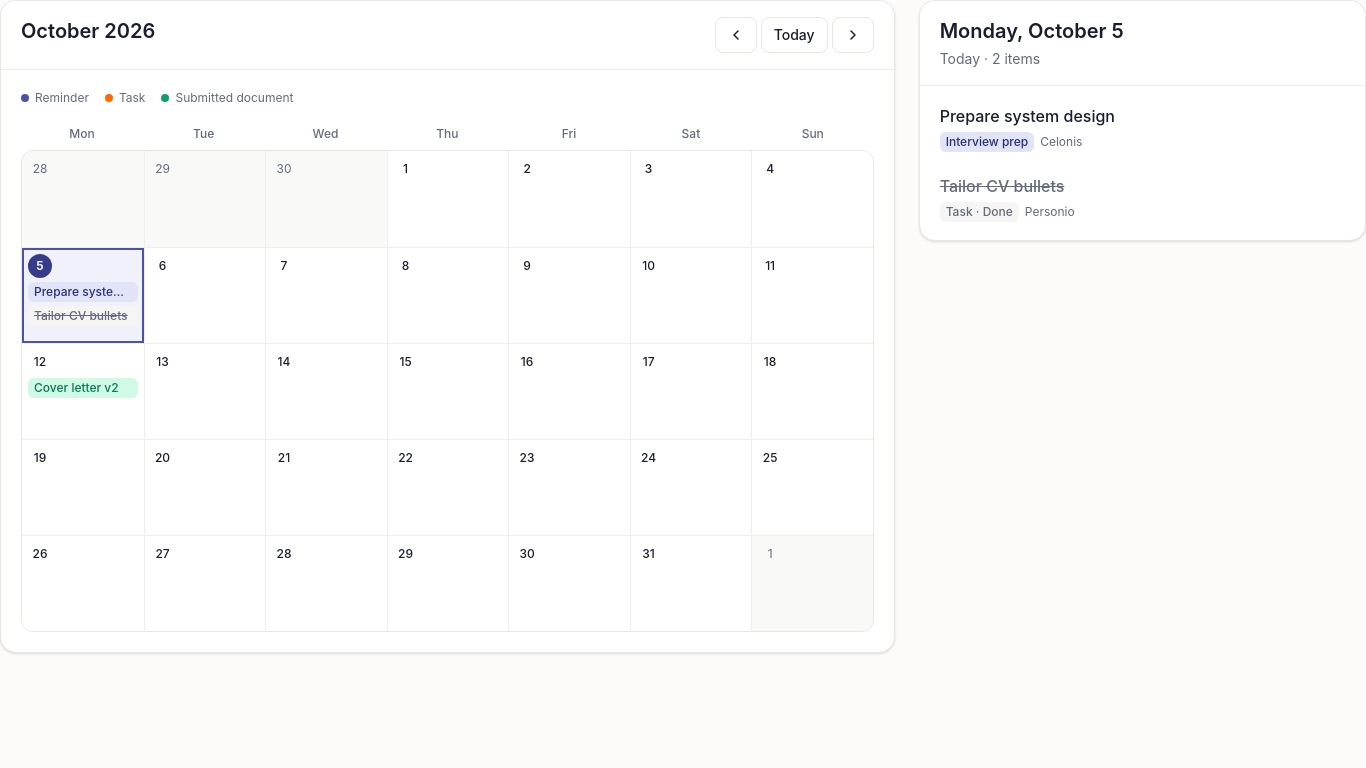
CalendarPage › drops a chosen day when the month changes
Step 1. Click the button with aria-label "Monday, October 12, 1 item" → (83, 391), box [22,343,144,439]
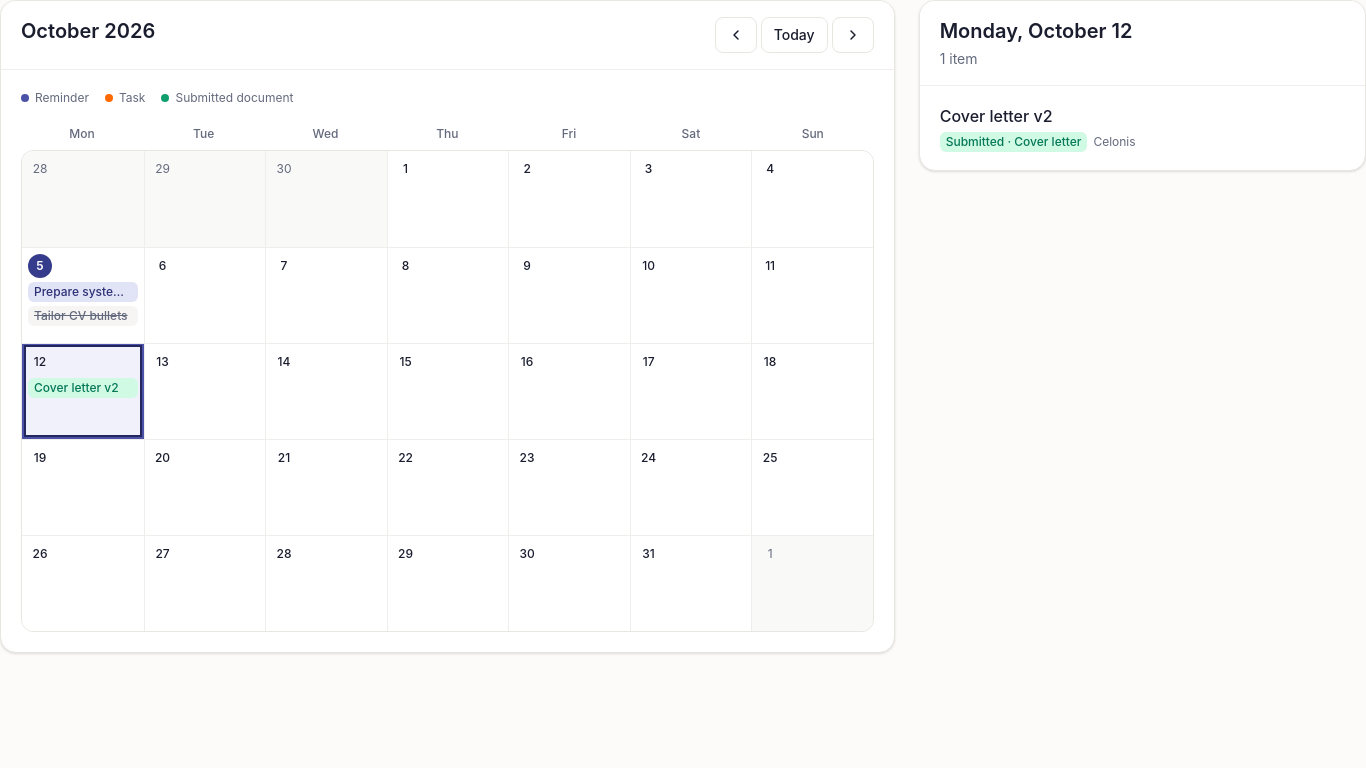
Step 2. Click the button named "Next month" → (853, 35), box [832,17,874,53]
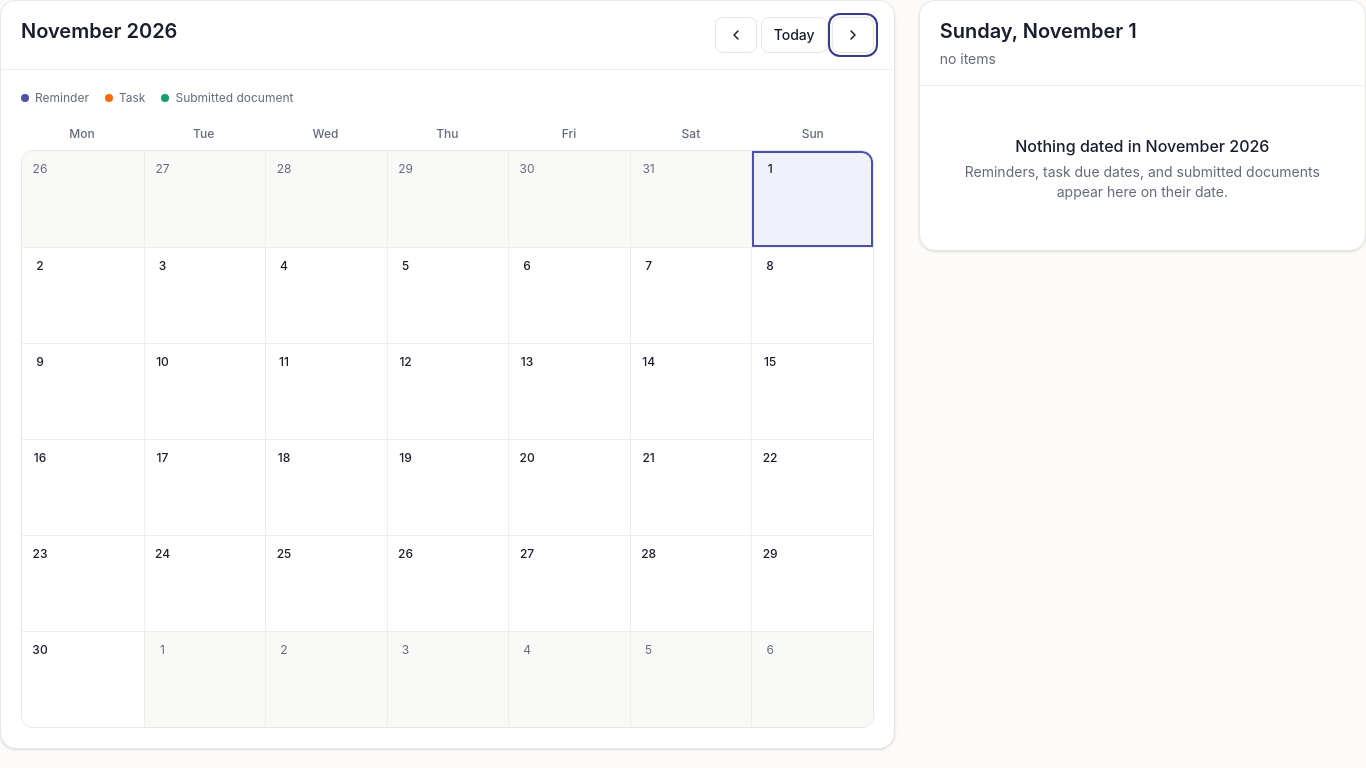
Now the heading "Sunday, November 1" is shown, box [940,17,1137,45]
Now the text "Nothing dated in November 2026" is shown, box [1015,134,1270,158]
Back in October, the month opens on today again, not on the 12th.
Step 3. Click the button named "Previous month" → (736, 35), box [715,17,757,53]
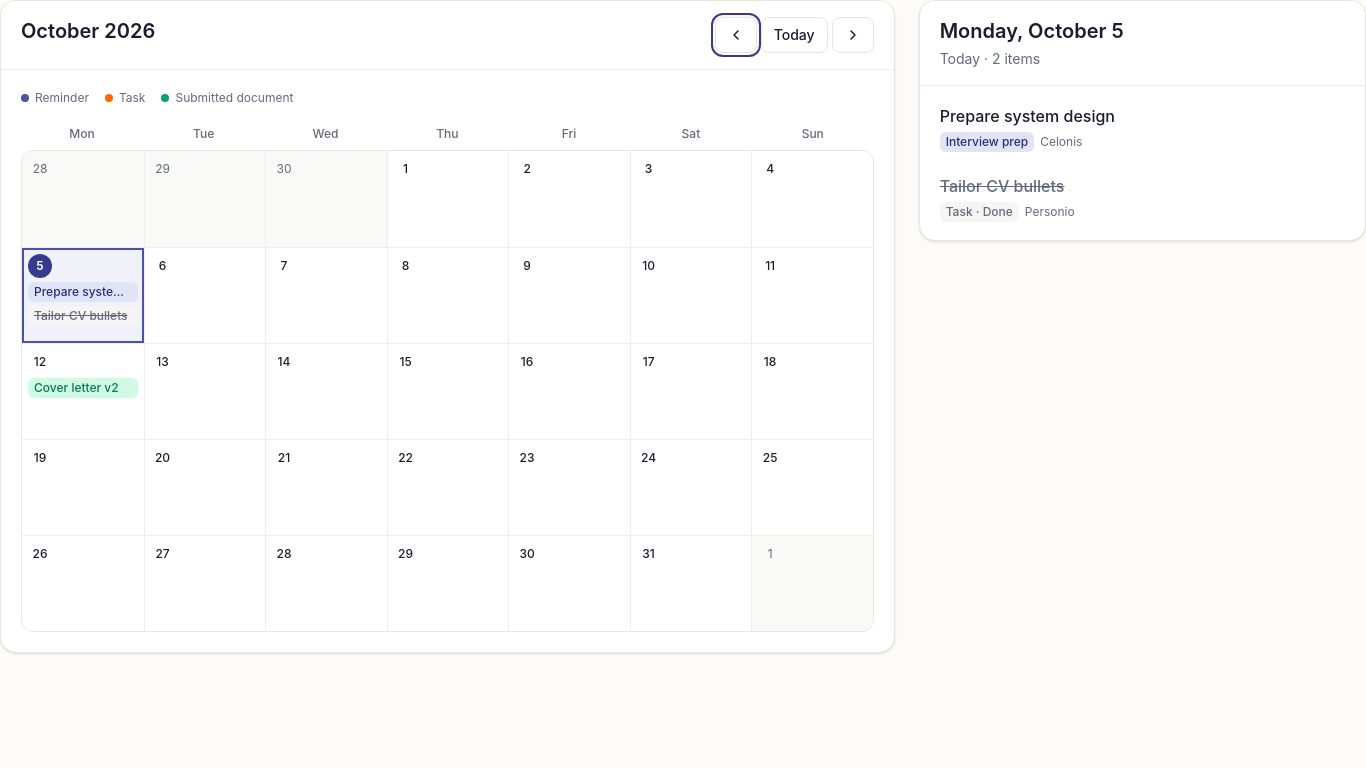
Now the heading "Monday, October 5" is shown, box [940,17,1124,45]
